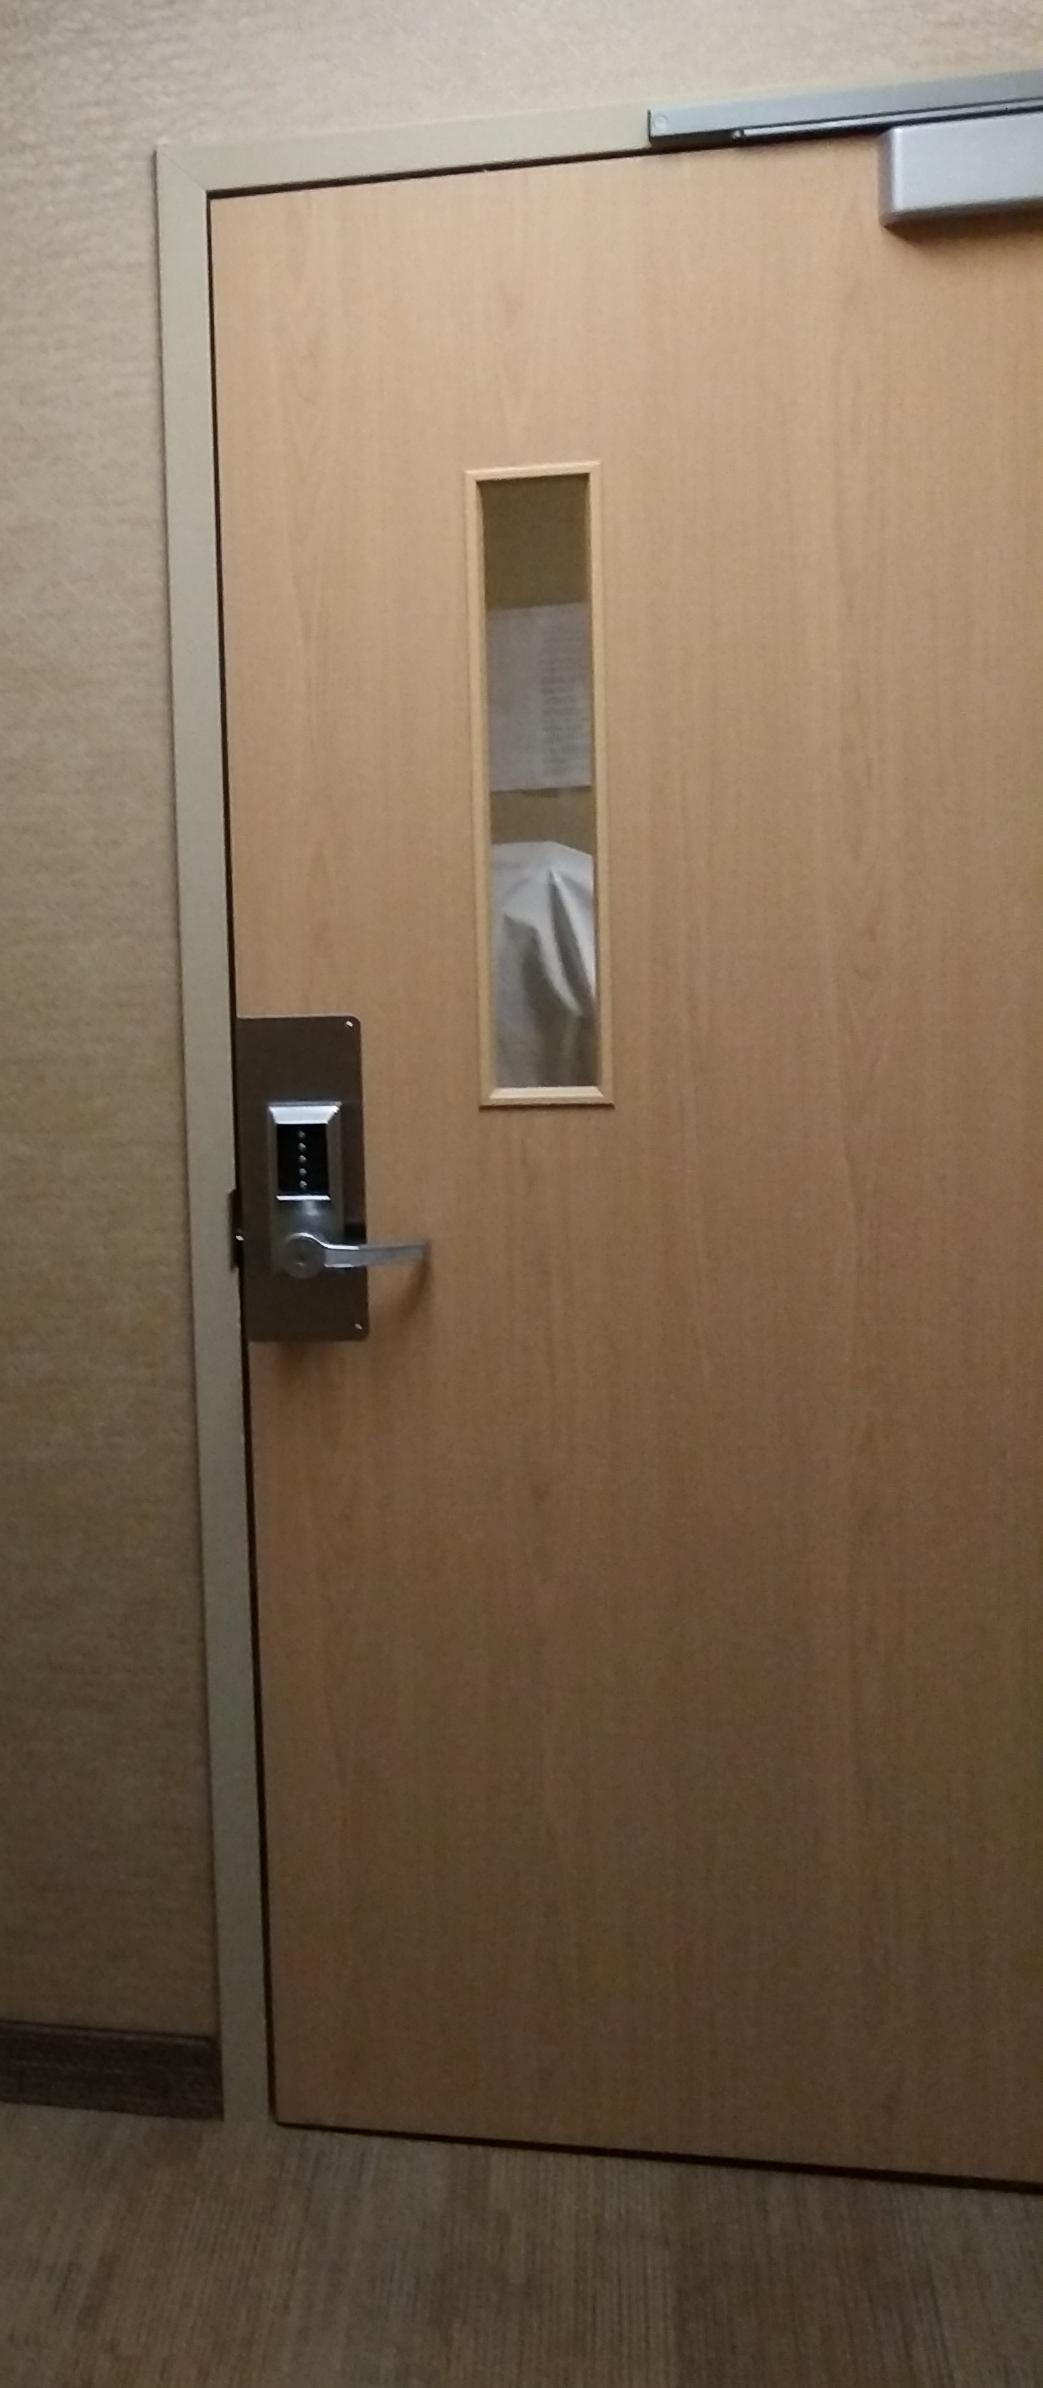door: (190, 158, 1043, 2149)
